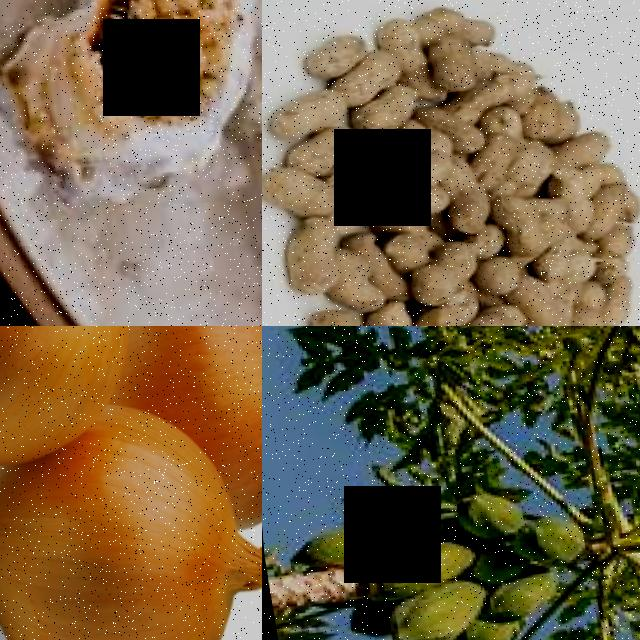onion: (0, 445, 251, 640), (0, 326, 128, 478), (96, 326, 262, 418)
oysters: (0, 0, 262, 189)
pawpaw: (350, 542, 472, 602), (289, 523, 413, 563), (506, 513, 593, 569), (376, 591, 472, 640), (447, 488, 522, 542), (474, 576, 557, 623), (448, 620, 519, 640)
peanuts: (272, 212, 341, 296), (402, 238, 481, 308), (361, 181, 448, 229), (276, 125, 365, 171), (263, 88, 343, 138), (262, 165, 332, 220), (421, 33, 478, 94), (492, 193, 543, 261), (330, 49, 402, 97), (347, 90, 421, 136), (300, 30, 369, 76), (438, 179, 492, 236), (357, 131, 419, 175), (591, 274, 637, 326), (402, 146, 457, 185), (299, 303, 384, 326), (371, 300, 419, 326)
